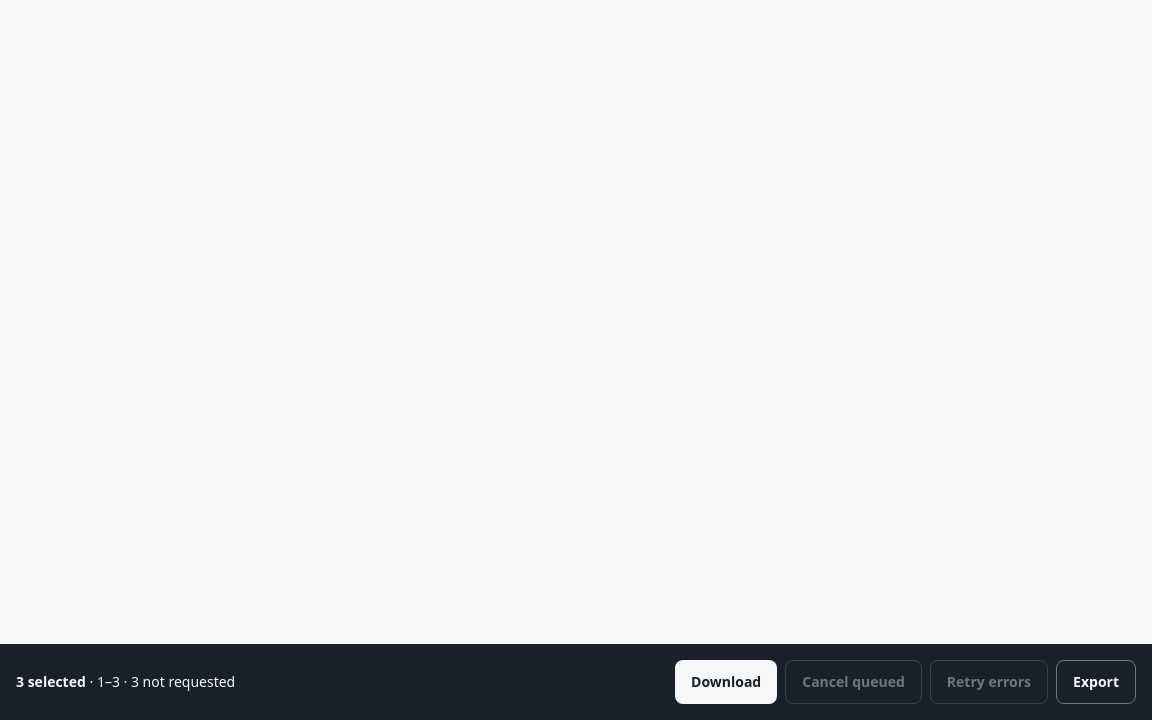
Test case: SelectionBar › after a bulk action › on failure shows the error and stays in select mode
Click the button "Download" at (726, 682), box [675,660,777,704]
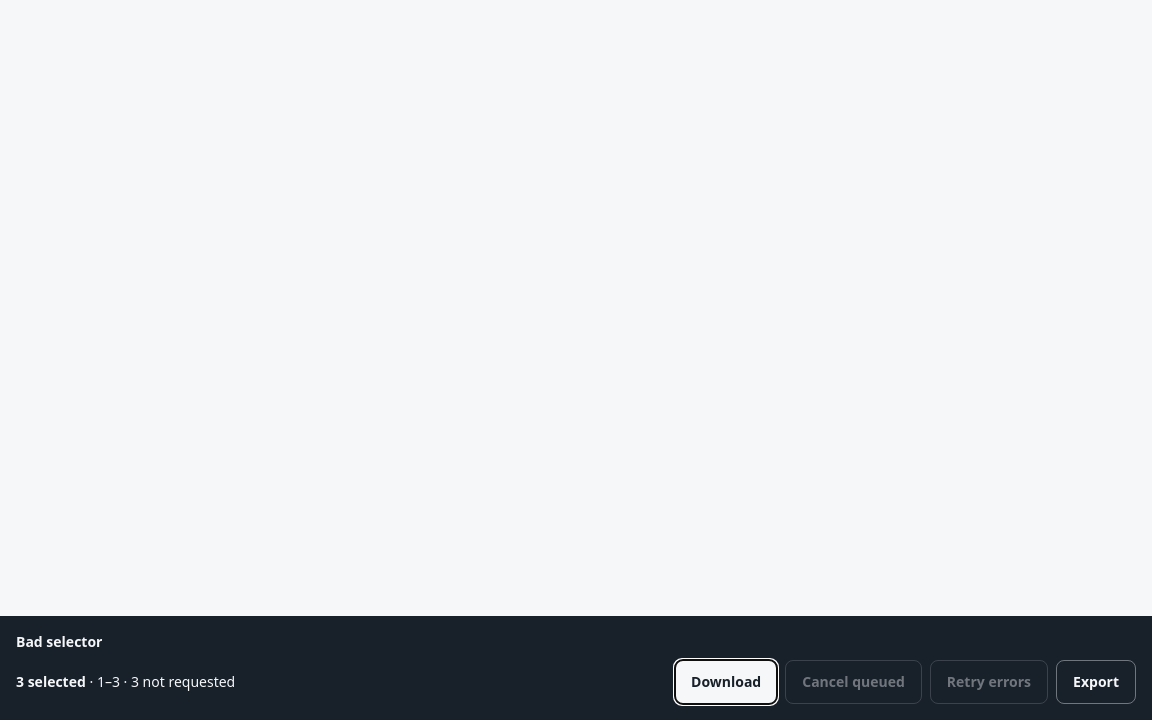
Result: the message reads "Bad selector" at [16,632,102,651]
